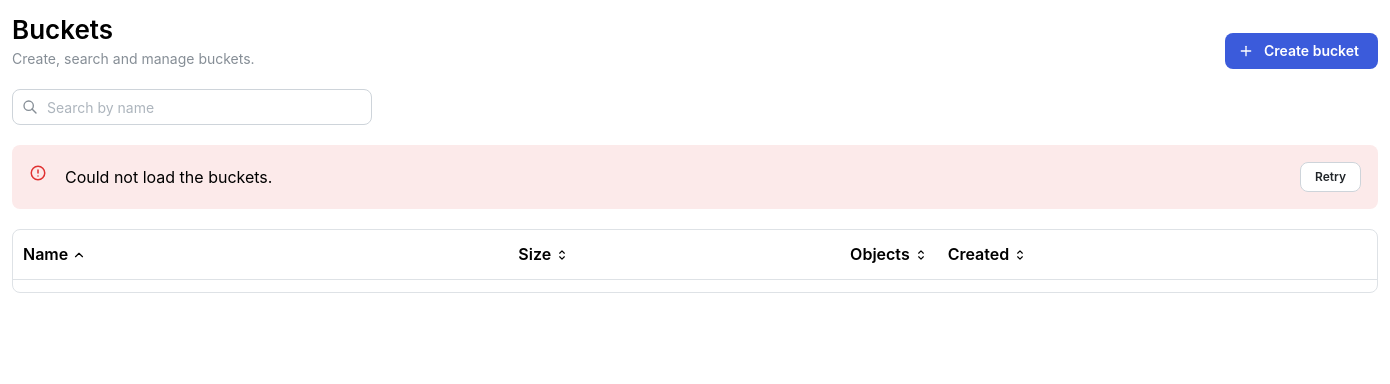
Scenario: BucketsPage (TD-U-03) › shows an error with a retry action
Expected: the message shows "Could not load the buckets.", x1=65 y1=167 x2=272 y2=187
What coordinates should you click on to do the following:
click the button "Retry"
I would click on:
 (1330, 177)
Its box is x1=1300 y1=162 x2=1361 y2=192.
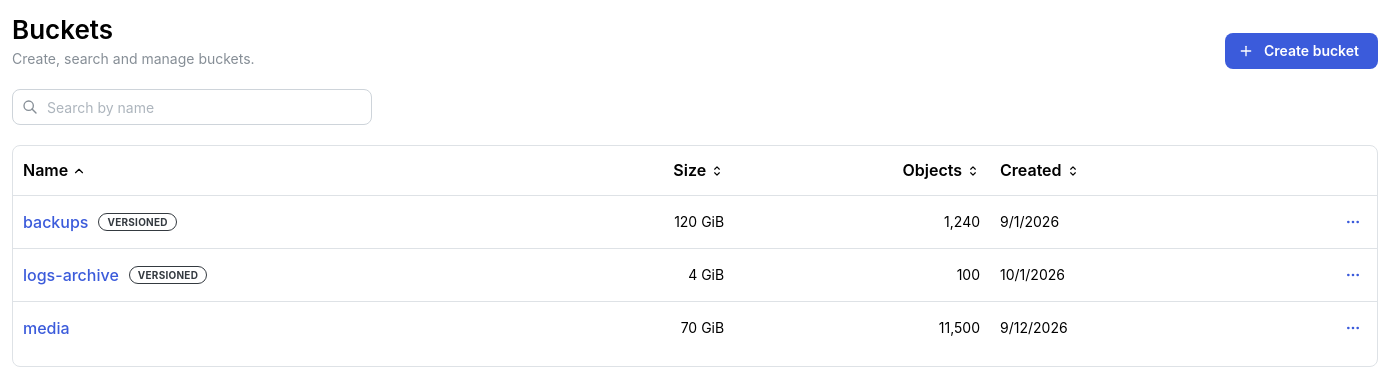
Expected: the link "media" is shown, x1=23 y1=316 x2=70 y2=341
